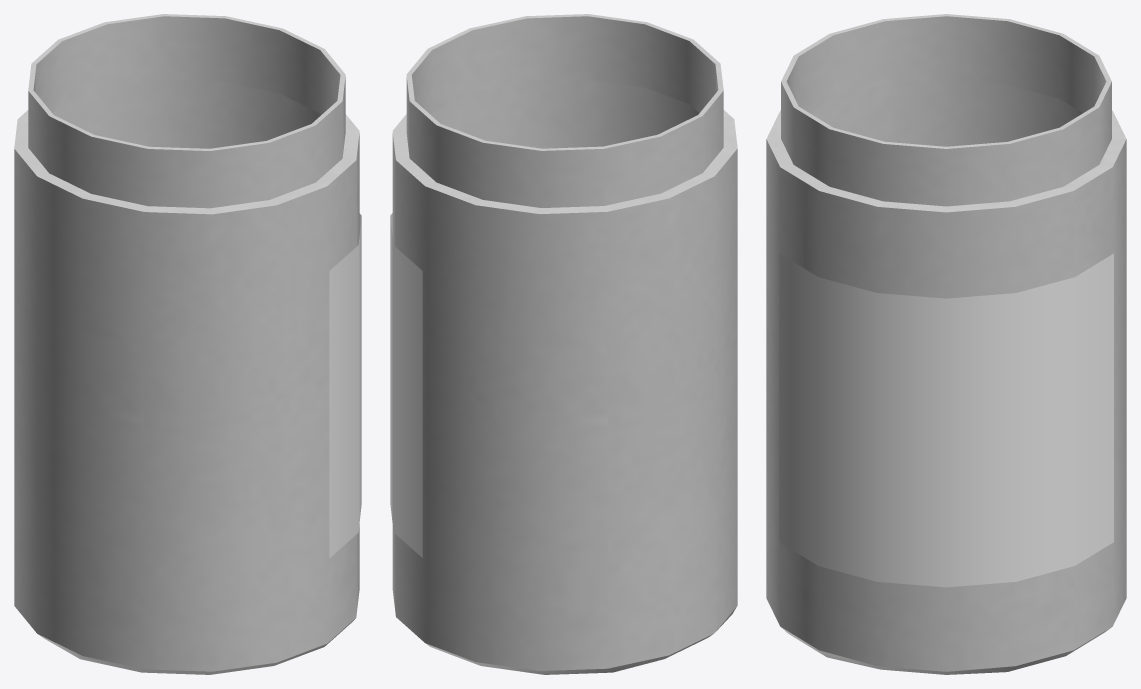
File: SM_溴甲酚绿_002.fbx
3 renders of one model, left to right at view 1: azimuth 30°, elevation 25°; view 2: azimuth 150°, elevation 25°; view 3: azimuth 270°, elevation 25°, orthographic.
Parts seen in each view (by area): view 1: SM_溴甲酚绿_002; view 2: SM_溴甲酚绿_002; view 3: SM_溴甲酚绿_002.
Boxes of the visible parts, x1=… form: SM_溴甲酚绿_002: x1=14, y1=14, x2=361, y2=674; SM_溴甲酚绿_002: x1=390, y1=14, x2=737, y2=674; SM_溴甲酚绿_002: x1=766, y1=14, x2=1126, y2=674.
Bounding box in the file's own units: 0.0778 × 0.1285 × 0.0801.
